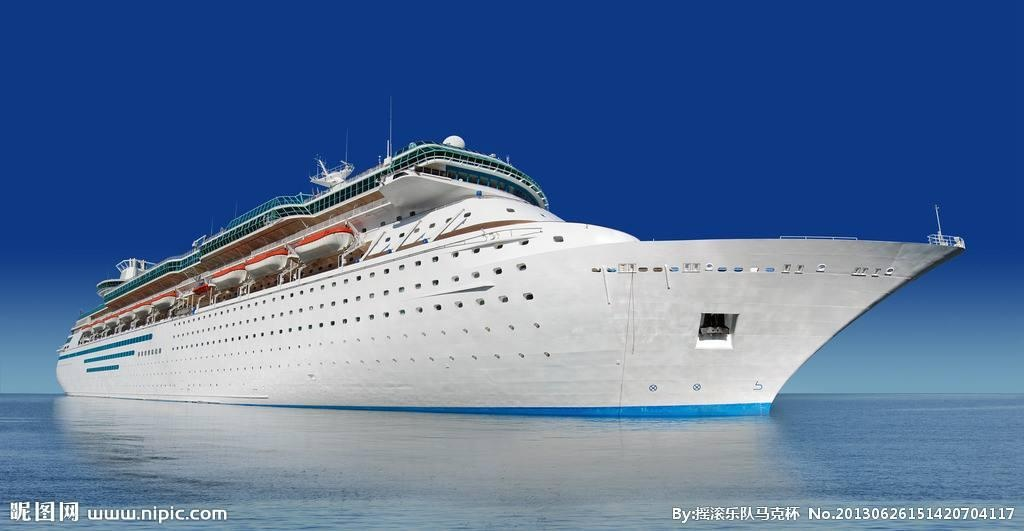youlun: (54, 138, 968, 405)
